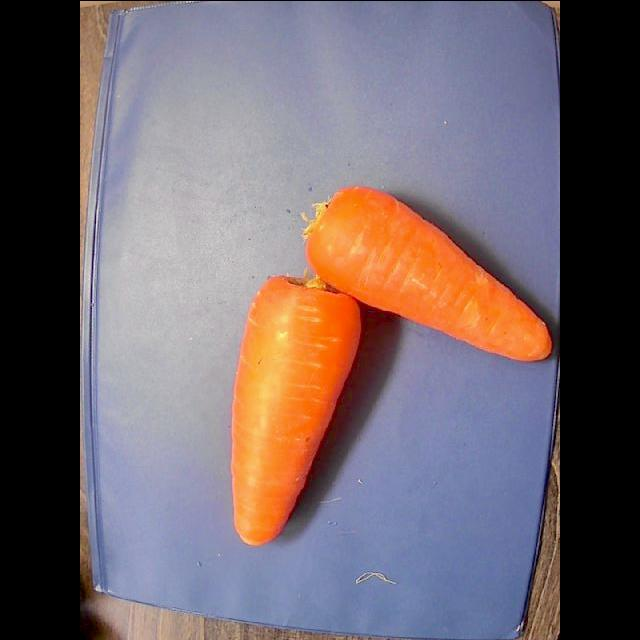zanahoria: (304, 185, 550, 360), (231, 275, 360, 544)
